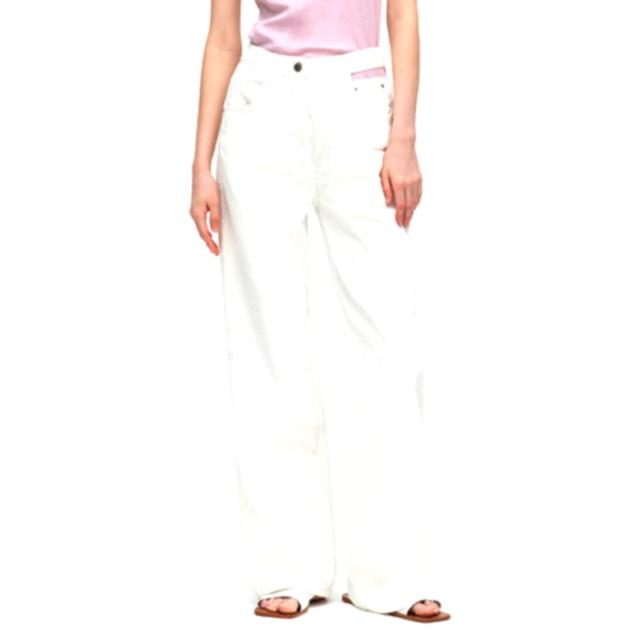Blouse_deep: (212, 40, 446, 617)
